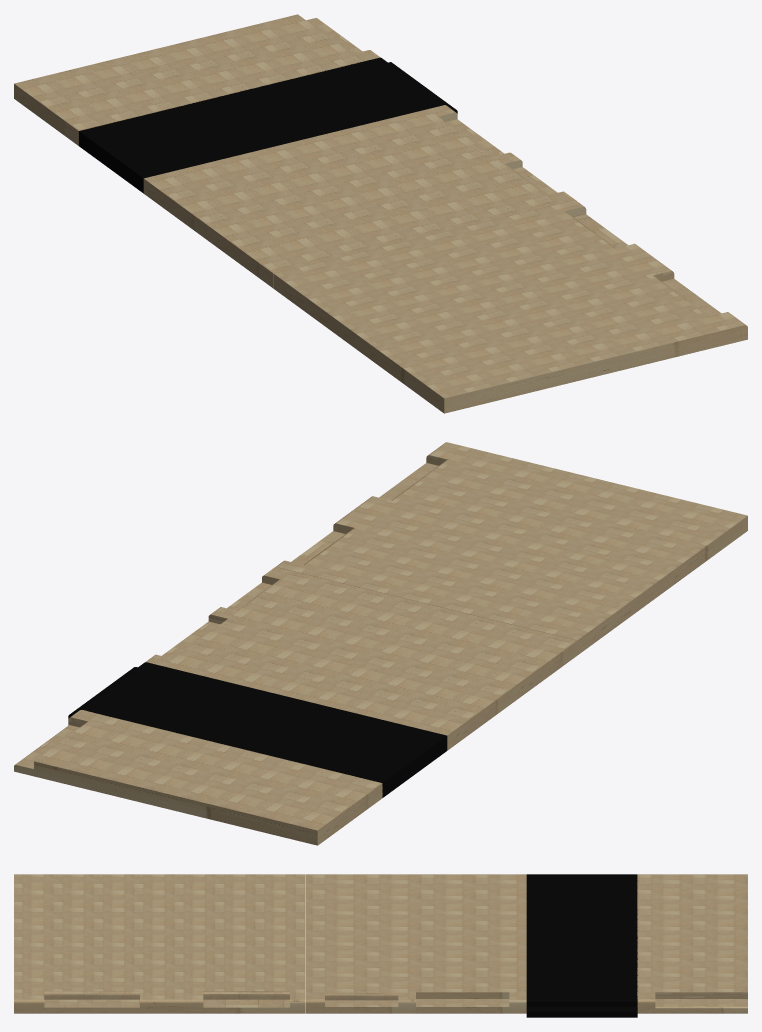
Rendered from SHOPS STAIRS.fbx.
The picture shows the model from 3 angles, top to bottom: view 1: azimuth 30°, elevation 25°; view 2: azimuth 150°, elevation 25°; view 3: azimuth 270°, elevation 25°; orthographic projection. The views are drawn at different scales.
Visible parts, largest first — view 1: pCube59, pCube56, pCube58, pCube57, pCube55; view 2: pCube59, pCube55, pCube56, pCube58, pCube57; view 3: pCube59, pCube56, pCube55, pCube57, pCube58.
Boxes of the visible parts, bbox=[...] form: pCube59: bbox=[273, 200, 747, 413]; pCube56: bbox=[79, 57, 457, 193]; pCube58: bbox=[208, 152, 576, 288]; pCube57: bbox=[143, 105, 504, 240]; pCube55: bbox=[14, 14, 380, 145]; pCube59: bbox=[275, 442, 747, 655]; pCube55: bbox=[14, 710, 382, 845]; pCube56: bbox=[68, 662, 447, 797]; pCube58: bbox=[208, 567, 577, 702]; pCube57: bbox=[145, 619, 512, 750]; pCube59: bbox=[14, 874, 304, 1013]; pCube56: bbox=[526, 874, 637, 1017]; pCube55: bbox=[637, 874, 747, 1013]; pCube57: bbox=[416, 874, 526, 1013]; pCube58: bbox=[305, 874, 415, 1013].
Bounding box in the file's own units: 12.99 × 0.5984 × 30.81.
Materials: 2 (1 with a texture image).
